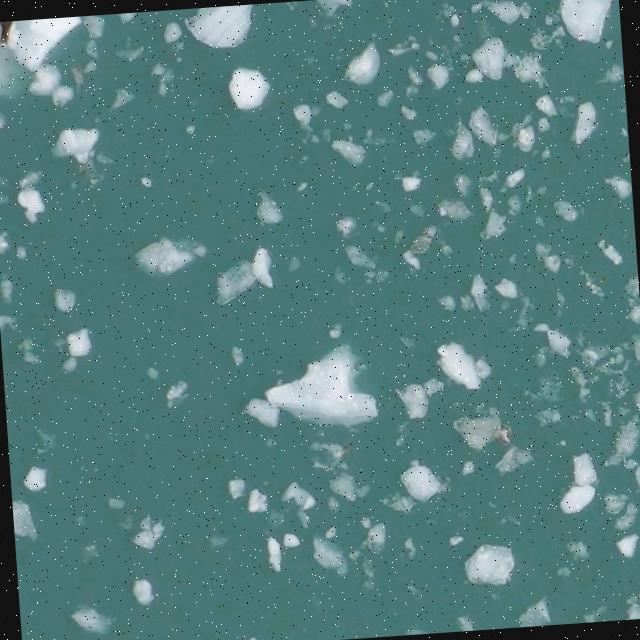seal: (0, 21, 15, 46)
